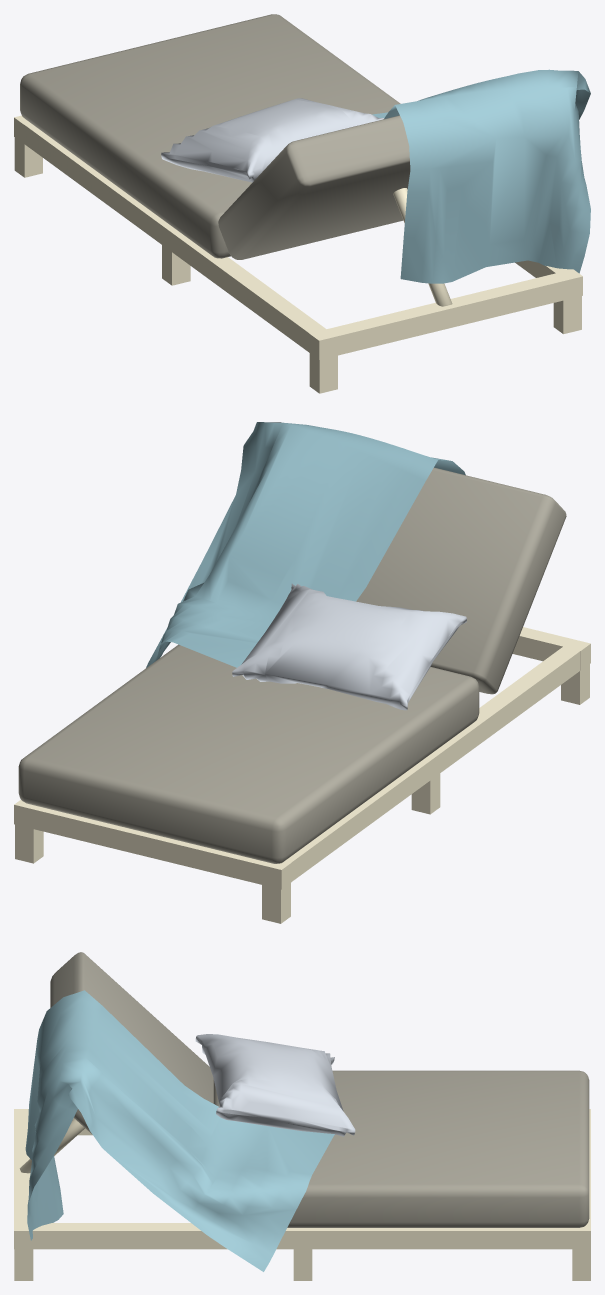
The model's file is sun_lounger.gltf.
3 views of the same model, one above another, from view 1: azimuth 30°, elevation 25°; view 2: azimuth 150°, elevation 25°; view 3: azimuth 270°, elevation 25° (orthographic). The views are drawn at different scales.
Parts seen in each view (by area): view 1: Cube.010_3, Plane_6, Cube_2, Cube.011_4, Cube.001_7, Plane.001_8, Cylinder_5; view 2: Cube.010_3, Plane_6, Cube.011_4, Cube_2, Cube.001_7, Plane.001_8; view 3: Cube.010_3, Plane_6, Cube_2, Cube.001_7, Cube.011_4, Plane.001_8, Cylinder_5.
Part boxes in pixels (<box>): Cube.010_3: <box>20,14,400,258</box>; Plane_6: <box>372,69,590,283</box>; Cube_2: <box>14,115,582,393</box>; Cube.011_4: <box>218,115,410,259</box>; Cube.001_7: <box>161,98,384,182</box>; Plane.001_8: <box>410,70,590,283</box>; Cylinder_5: <box>393,188,452,306</box>; Cube.010_3: <box>18,644,479,863</box>; Plane_6: <box>146,422,465,667</box>; Cube.011_4: <box>356,467,566,694</box>; Cube_2: <box>14,627,590,923</box>; Cube.001_7: <box>232,583,466,710</box>; Plane.001_8: <box>148,424,464,664</box>; Cube.010_3: <box>214,1070,589,1227</box>; Plane_6: <box>25,990,334,1271</box>; Cube_2: <box>14,1109,590,1280</box>; Cube.001_7: <box>195,1034,355,1136</box>; Cube.011_4: <box>50,952,213,1134</box>; Plane.001_8: <box>27,1001,309,1271</box>; Cylinder_5: <box>19,1118,84,1173</box>.
Size of the model in its own units: 1.19 by 0.8453 by 2.
